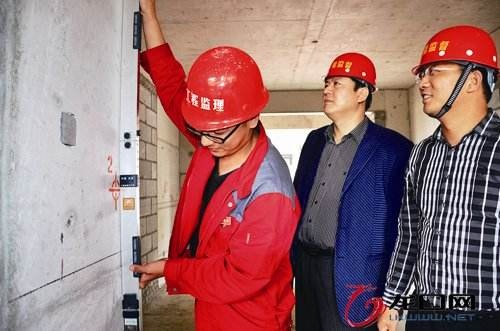red: (179, 45, 268, 157), (413, 24, 496, 121), (319, 53, 379, 126)
